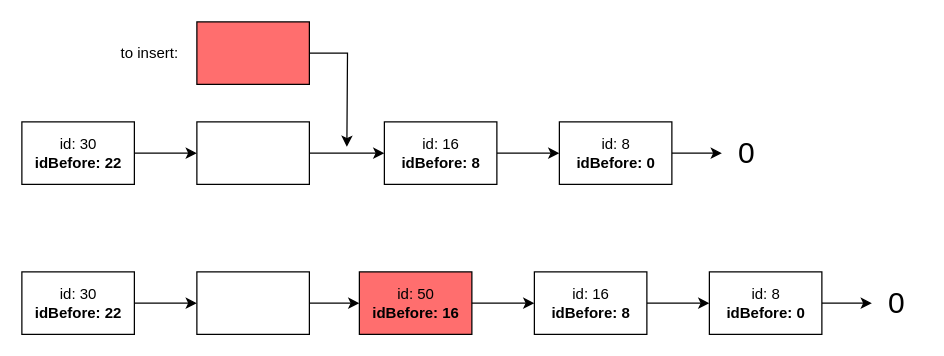
This 944x356 diagram has some shape labels left out. Each missing label, with the centre of its shape:
id: 22 idBefore: 16: (252,152)
id: 22 idBefore: 50: (252,302)
id: 50: (252,52)
